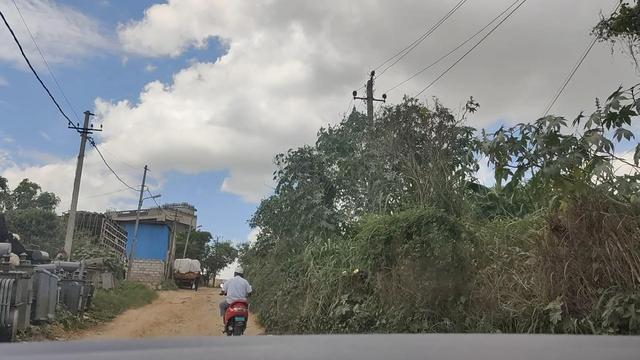HMV: (171, 256, 205, 295)
UnsurfacedRoad: (125, 297, 221, 339)
